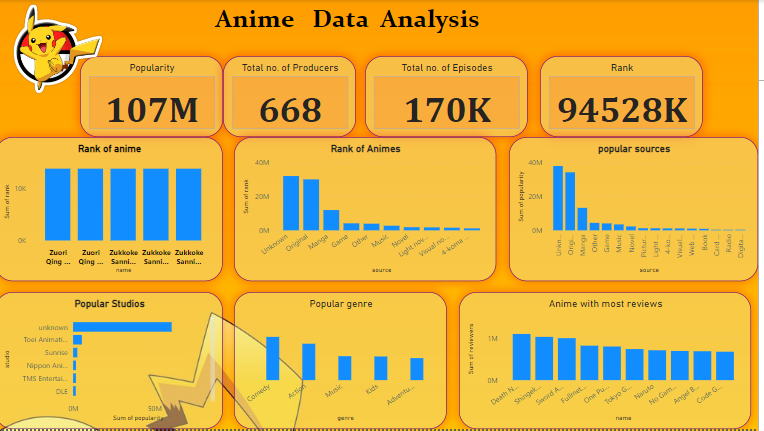

Layout of this report page (visuals, bound fields, positions):
{"tool":"powerbi","page":{"name":"Page 1","canvas":[1280,720],"ordinal":0},"visuals":[{"type":"cardVisual","title":"Popularity","fields":{"Data":["Sum(Sheet1.popularity)"]},"box":[142.6,93.9,239.9,135.9],"z":0},{"type":"cardVisual","title":"Total no. of Producers","fields":{"Data":["Count(Sheet1.producers)"]},"box":[382.5,93.9,223.1,135.9],"z":1},{"type":"cardVisual","title":"Total no. of Episodes","fields":{"Data":["Sum(Sheet1.episodes)"]},"box":[620.7,93.9,273.4,135.9],"z":2},{"type":"image","box":[18.5,0,172.8,162.7],"z":3},{"type":"textbox","box":[92.3,0,998.2,137.6],"z":4},{"type":"lineStackedColumnComboChart","title":"Rank of anime","fields":{"Y":["Sum(Sheet1.rank)"],"Category":["Sheet1.name"]},"box":[0,229.8,382.5,241.6],"z":5},{"type":"cardVisual","title":"Rank","fields":{"Data":["Sum(Sheet1.rank)"]},"box":[914.3,93.9,273.4,135.9],"z":6},{"type":"clusteredColumnChart","title":"Rank of Animes","fields":{"Category":["Sheet1.source"],"Y":["Sum(Sheet1.rank)"]},"box":[400.9,229.8,439.5,241.6],"z":7},{"type":"clusteredColumnChart","title":"popular sources ","fields":{"Category":["Sheet1.source"],"Y":["Sum(Sheet1.popularity)"]},"box":[862.3,229.8,417.7,241.6],"z":8},{"type":"clusteredBarChart","title":"Popular Studios","fields":{"Category":["Sheet1.studio"],"Y":["Sum(Sheet1.popularity)"]},"box":[0,489.9,382.5,229.8],"z":9},{"type":"ribbonChart","title":"Popular genre","fields":{"Category":["Sheet1.genre"],"Y":["Sum(Sheet1.popularity)"]},"box":[400.9,489.9,357.3,229.8],"z":10},{"type":"clusteredColumnChart","title":"Anime with most reviews","fields":{"Category":["Sheet1.name"],"Y":["Sum(Sheet1.reviewers)"]},"box":[778.4,489.9,489.9,229.8],"z":11}]}

Visuals, with their boxes in screenshot pixels (x1, y1, x2, y2), scaled from the page's 1280x720 canvas onto the 764x431 screenshot:
"Popularity" cardVisual: 85 56 228 138
"Total no. of Producers" cardVisual: 228 56 361 138
"Total no. of Episodes" cardVisual: 370 56 534 138
image: 11 0 114 97
textbox: 55 0 651 82
"Rank of anime" lineStackedColumnComboChart: 0 138 228 282
"Rank" cardVisual: 546 56 709 138
"Rank of Animes" clusteredColumnChart: 239 138 502 282
"popular sources " clusteredColumnChart: 515 138 763 282
"Popular Studios" clusteredBarChart: 0 293 228 430
"Popular genre" ribbonChart: 239 293 453 430
"Anime with most reviews" clusteredColumnChart: 465 293 757 430
